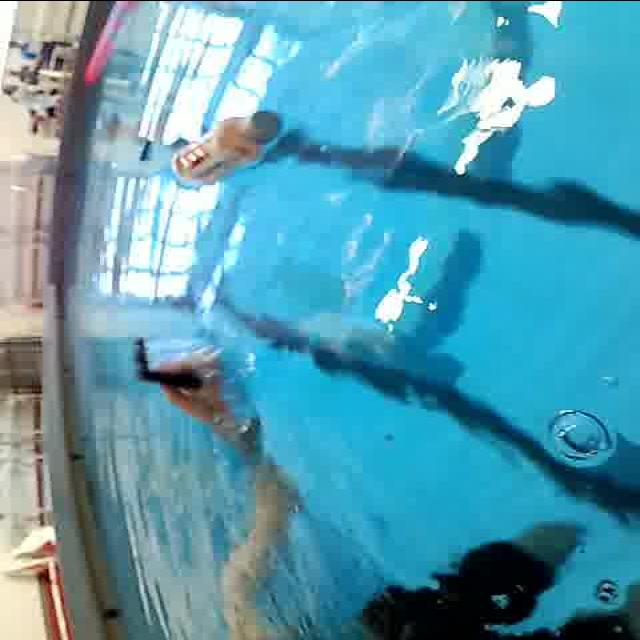Bottle: (164, 104, 290, 188)
